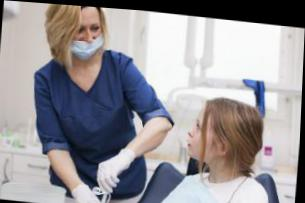NONE: (186, 113, 215, 158)
WRONG: (67, 12, 106, 60)
